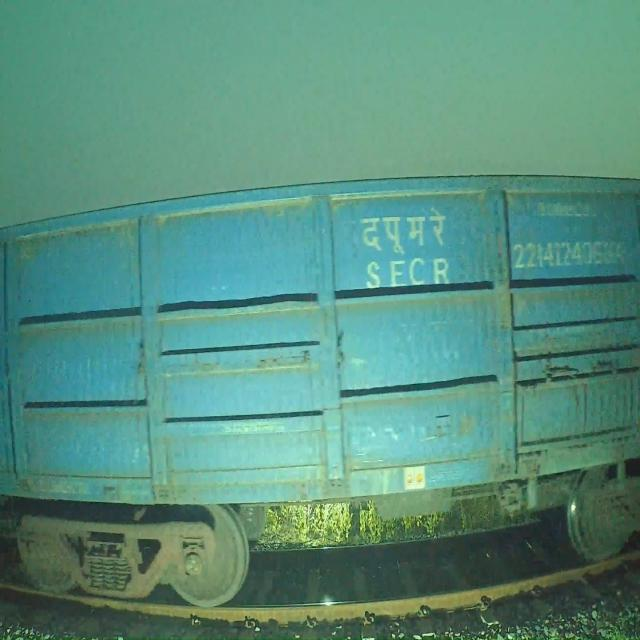WAgon-uic: (0, 166, 640, 610)
uic: (506, 231, 637, 276)
